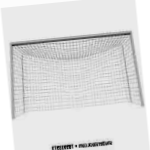goals: (9, 29, 146, 119)
